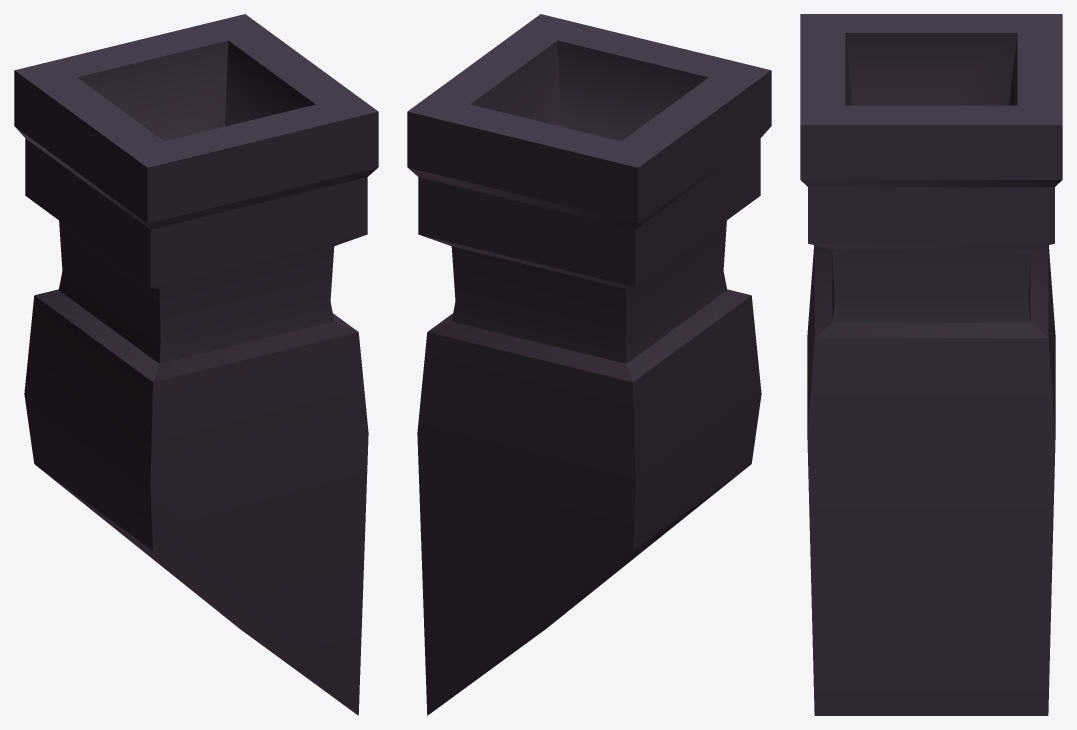
The model's file is Chimney02_Black.glb.
3 views of the same model, side by side, from view 1: azimuth 30°, elevation 25°; view 2: azimuth 150°, elevation 25°; view 3: azimuth 270°, elevation 25° (orthographic).
Visible parts, largest first — view 1: Chimney02_Black; view 2: Chimney02_Black; view 3: Chimney02_Black.
Boxes of the visible parts, x1,y1,x2,y2 form: Chimney02_Black: [14, 14, 378, 715]; Chimney02_Black: [407, 14, 771, 715]; Chimney02_Black: [800, 14, 1062, 715].
Bounding box in the file's own units: 0.5019 × 1.26 × 0.5019.
Materials: 1 (1 with a texture image).
